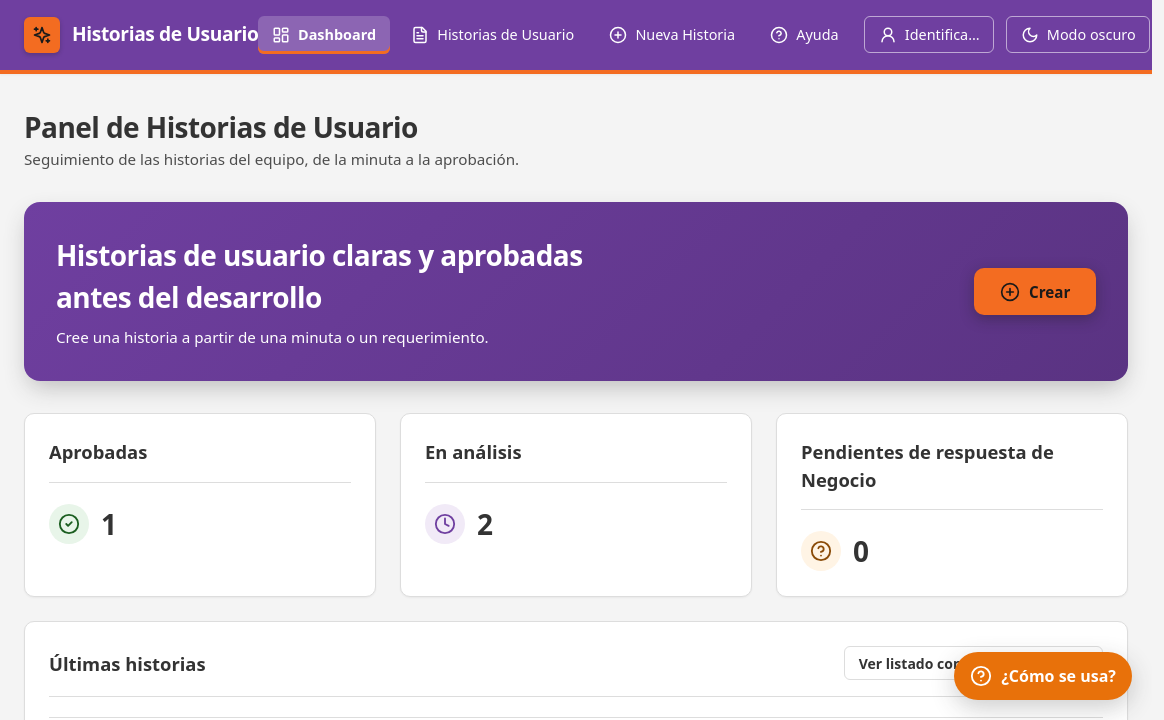
it: legacy regression (Historias de Usuario) › keeps the dashboard action navigating to the existing Stepper
What coordinates should you click on to do the following:
click the button "Crear"
I would click on:
 (1035, 292)
Its box is left=974, top=268, right=1096, bottom=315.
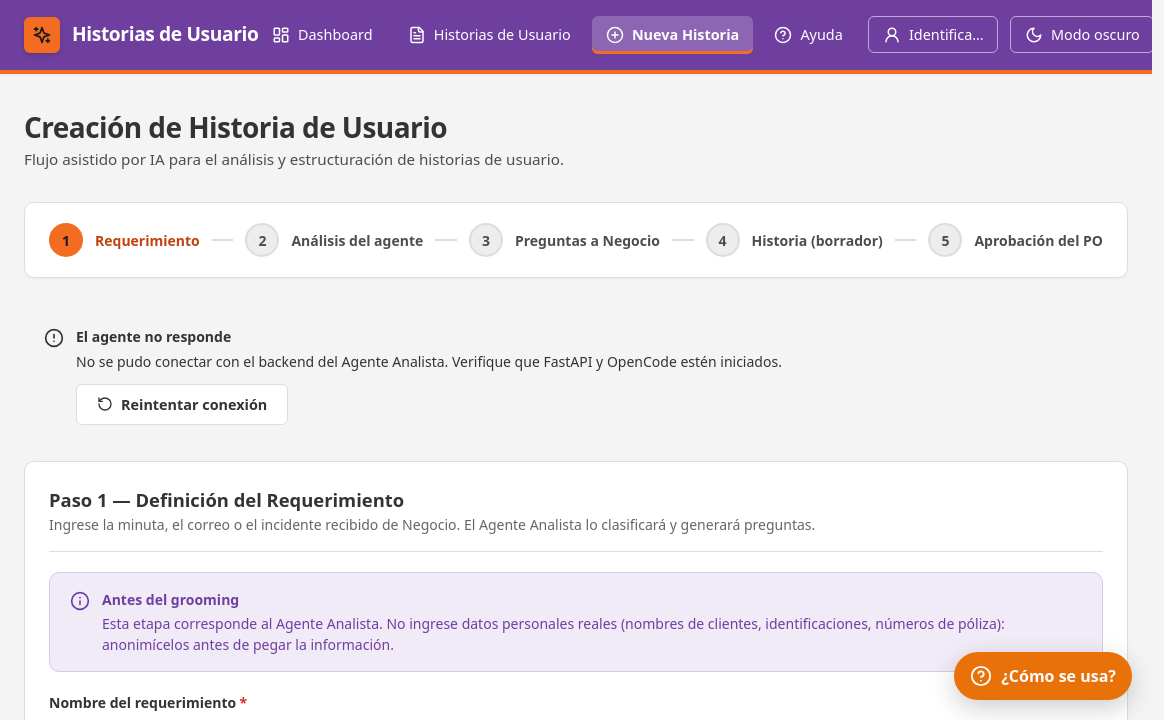
Expected: the heading "Creación de Historia de Usuario" is shown, left=24, top=108, right=447, bottom=146
Expected: the heading "Paso 1 — Definición del Requerimiento" is shown, left=49, top=487, right=404, bottom=512
